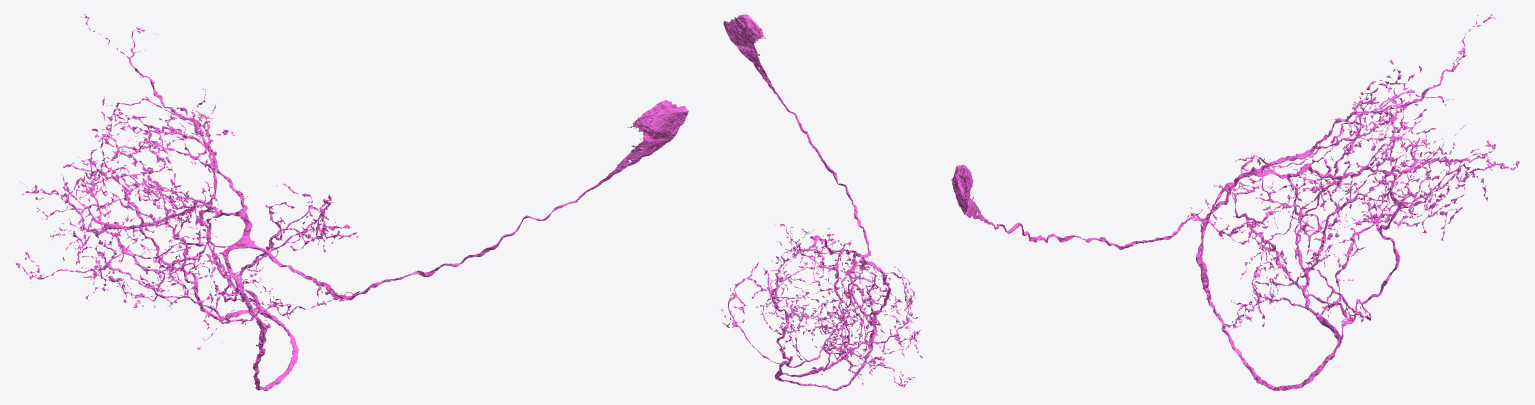
File: VFB_00105t3k.glb
3 views of the same model, side by side, from view 1: azimuth 30°, elevation 25°; view 2: azimuth 150°, elevation 25°; view 3: azimuth 270°, elevation 25° (orthographic). The views are drawn at different scales.
Parts seen in each view (by area): view 1: VFB_00105t3k; view 2: VFB_00105t3k; view 3: VFB_00105t3k.
Part boxes in pixels (x1=…): VFB_00105t3k: x1=14, y1=14, x2=688, y2=390; VFB_00105t3k: x1=721, y1=14, x2=922, y2=390; VFB_00105t3k: x1=951, y1=14, x2=1519, y2=390.
Bounding box in the file's own units: 0.103 × 0.07 × 0.1045.
